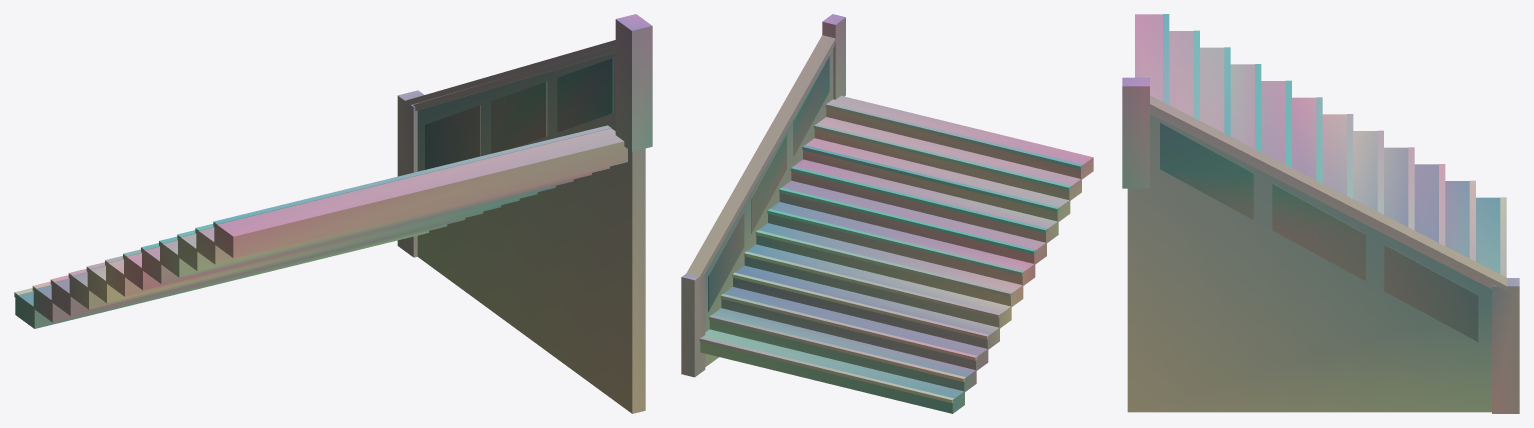
Rendered from stair_grand_4m_r.glb.
3 views of the same model, side by side, from view 1: azimuth 30°, elevation 25°; view 2: azimuth 150°, elevation 25°; view 3: azimuth 270°, elevation 25° (orthographic). The views are drawn at different scales.
Visible parts, largest first — view 1: stair, stair_trim, stair_panels; view 2: stair, stair_trim, stair_panels; view 3: stair, stair_trim, stair_panels.
Boxes of the visible parts, x1=… form: stair: x1=15, y1=52, x2=645, y2=413; stair_trim: x1=14, y1=14, x2=652, y2=297; stair_panels: x1=425, y1=58, x2=613, y2=169; stair: x1=700, y1=49, x2=1093, y2=413; stair_trim: x1=681, y1=14, x2=1082, y2=403; stair_panels: x1=708, y1=56, x2=829, y2=311; stair: x1=1127, y1=14, x2=1500, y2=412; stair_trim: x1=1122, y1=14, x2=1519, y2=413; stair_panels: x1=1160, y1=122, x2=1478, y2=341.
Size of the model in its own units: 4.38 by 3.93 by 4.32.
